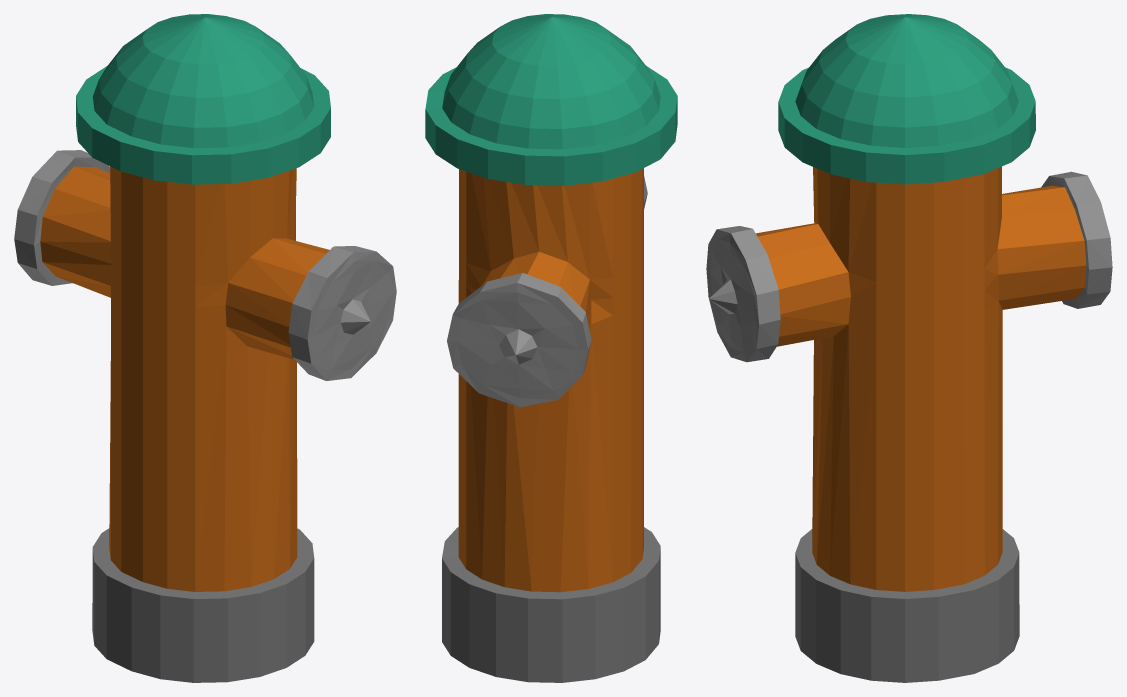
File: BorneFontaine.fbx
3 renders of one model, left to right at view 1: azimuth 30°, elevation 25°; view 2: azimuth 150°, elevation 25°; view 3: azimuth 270°, elevation 25°, orthographic.
Visible parts, largest first — view 1: pCylinder1; view 2: pCylinder1; view 3: pCylinder1.
Part boxes in pixels (<box>): pCylinder1: <box>14,14,396,682</box>; pCylinder1: <box>425,14,677,682</box>; pCylinder1: <box>706,14,1112,682</box>.
Size of the model in its own units: 13.58 by 34.59 by 20.54.
